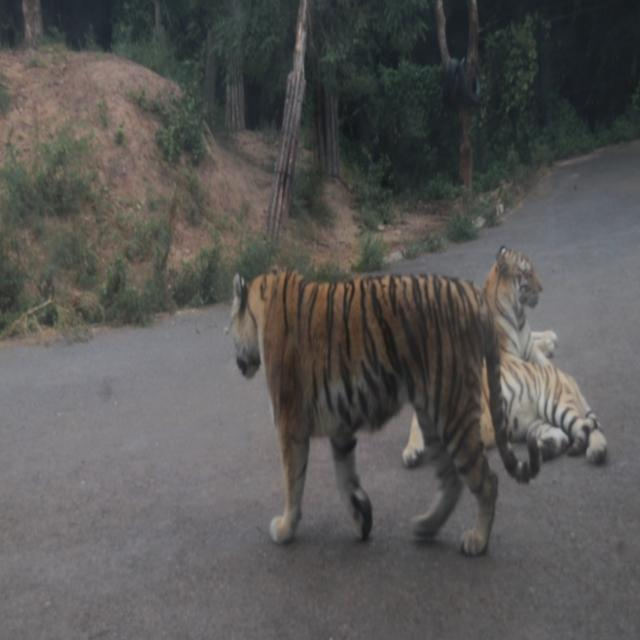Tiger: (225, 249, 547, 571), (408, 338, 608, 469), (479, 242, 575, 378)
